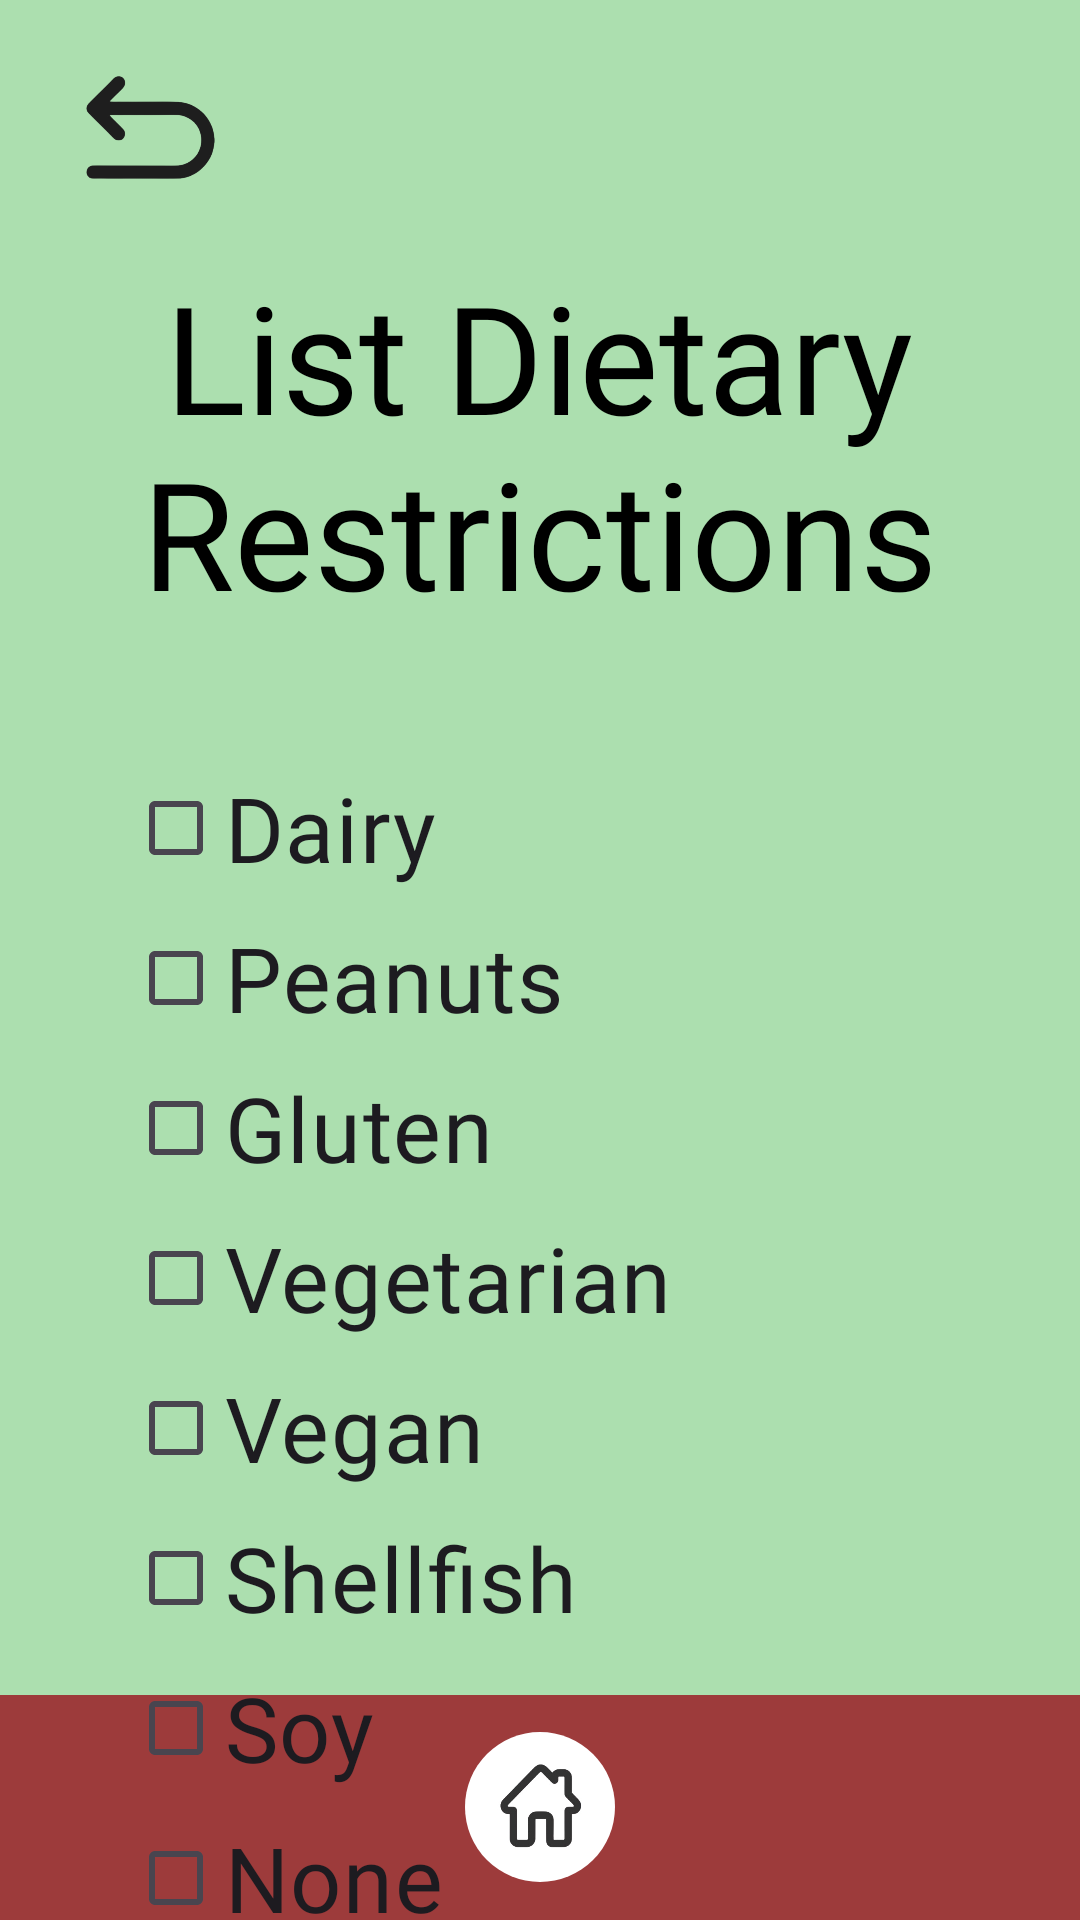

Icon bounding boxes for this 1080*1920 phone screenshot, format (x1, y1, x2, y2):
back: (86, 76, 215, 179)
Home: (465, 1732, 615, 1882)
